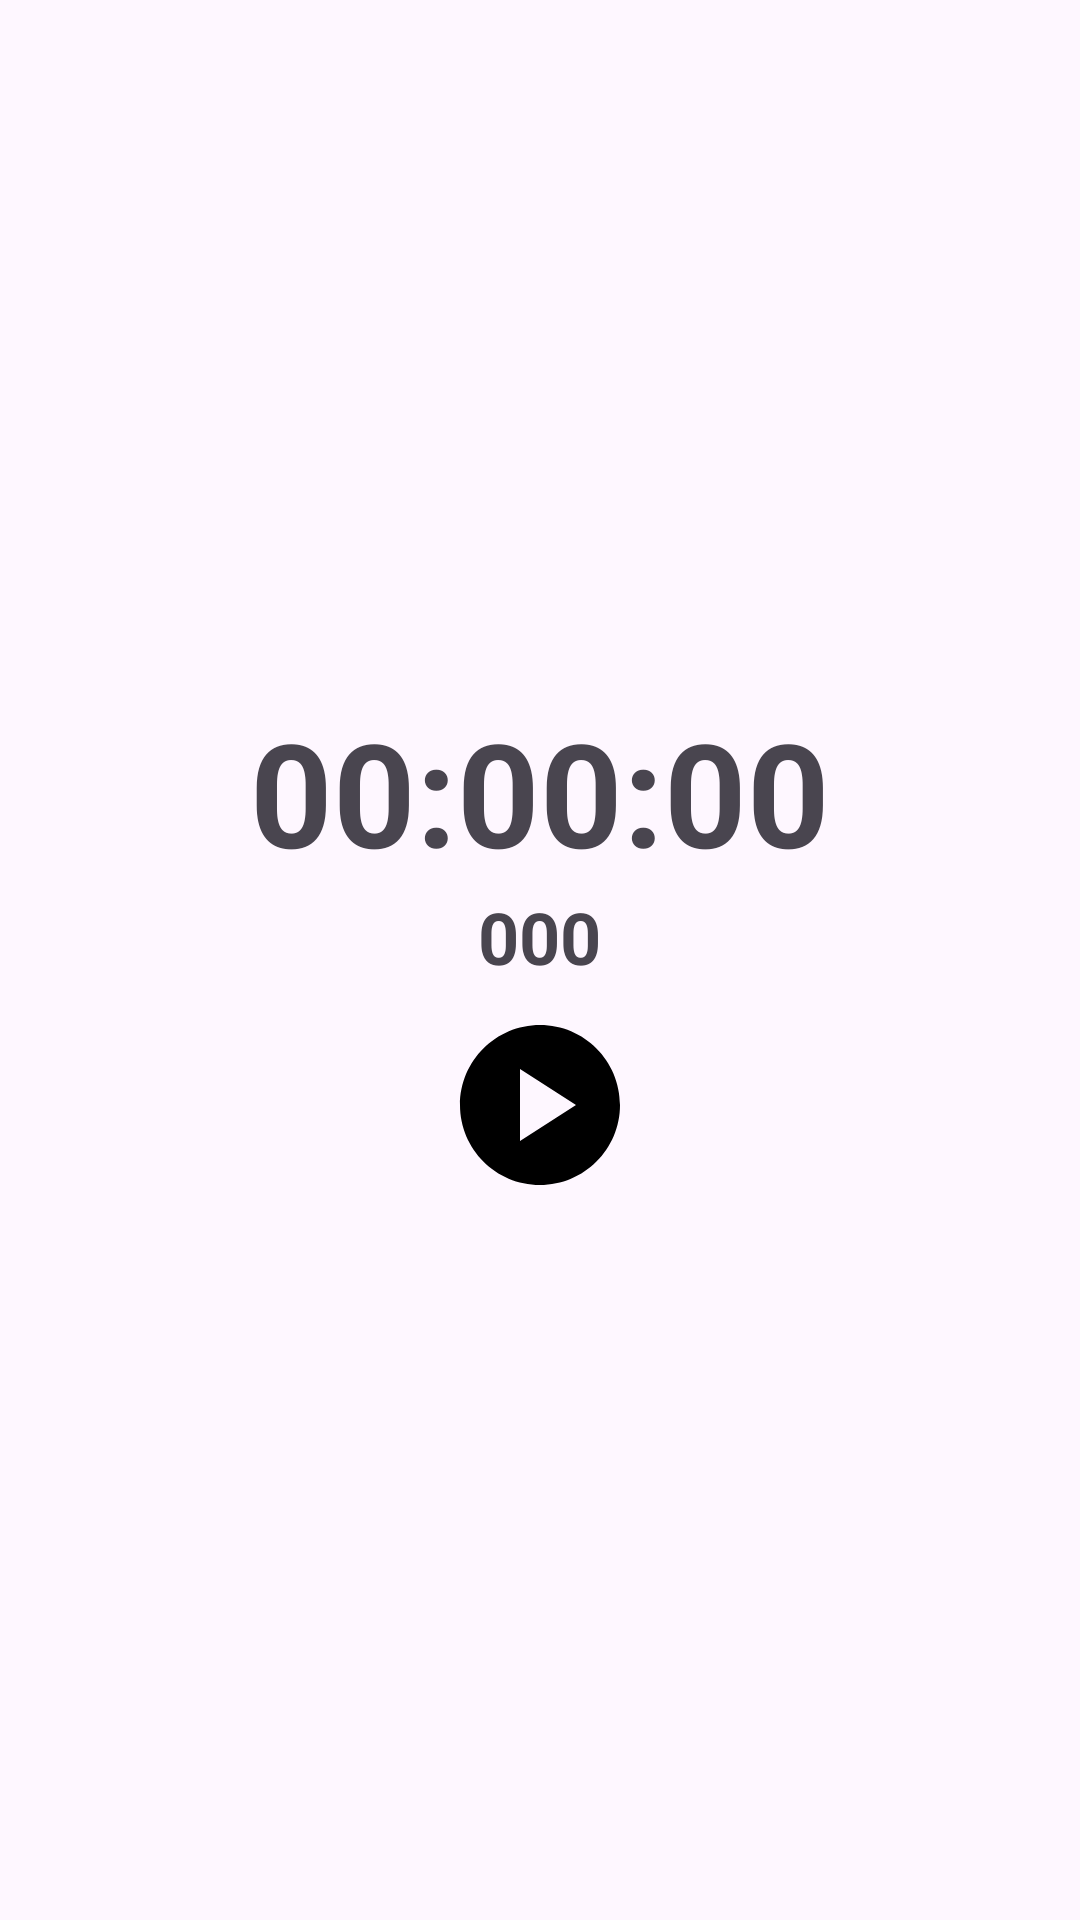

Where to tap for icons on this 1080×1920 app screen, as (x,y):
Start: (539,1105)
